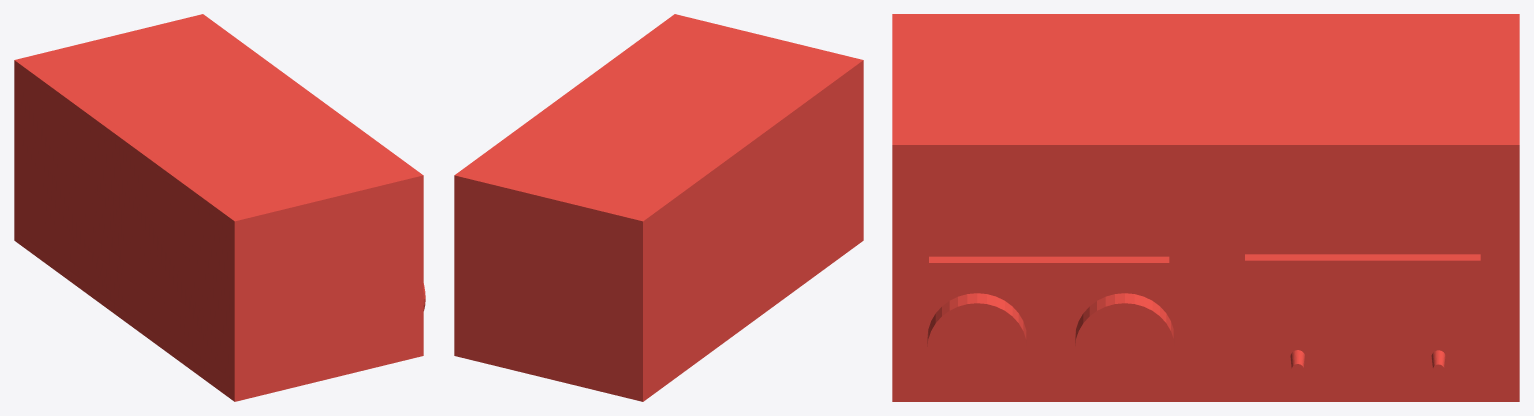
File: sokutei.fbx
The picture shows the model from 3 angles, left to right: view 1: azimuth 30°, elevation 25°; view 2: azimuth 150°, elevation 25°; view 3: azimuth 270°, elevation 25°; orthographic projection. The views are drawn at different scales.
Parts seen in each view (by area): view 1: Cube; view 2: Cube; view 3: Cube.
Part boxes in pixels (box(x1,y1,x2,y2)): Cube: box(14, 14, 425, 401); Cube: box(454, 14, 863, 401); Cube: box(892, 14, 1519, 401).
Size of the model in its own units: 39.93 by 33.25 by 73.58.
Materials: 1 (1 with a texture image).
